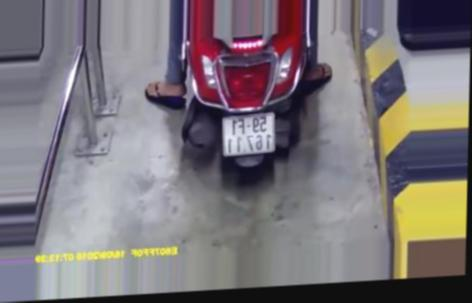License_Plate: (219, 107, 280, 162)
